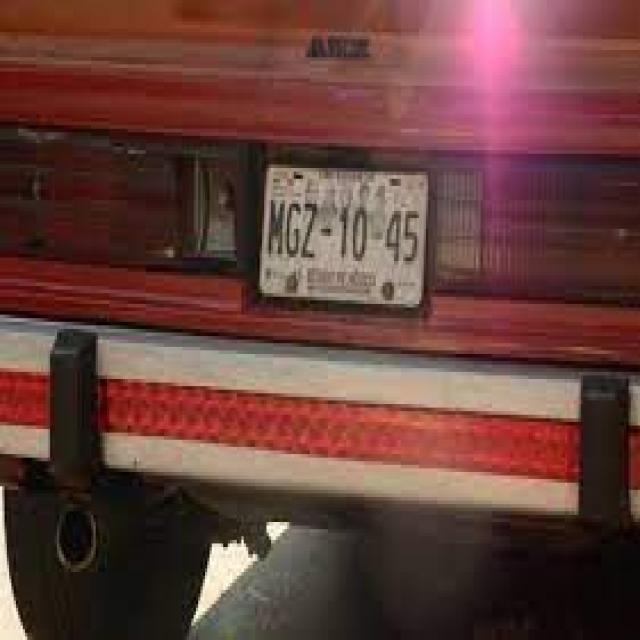placa: (266, 187, 426, 271)
